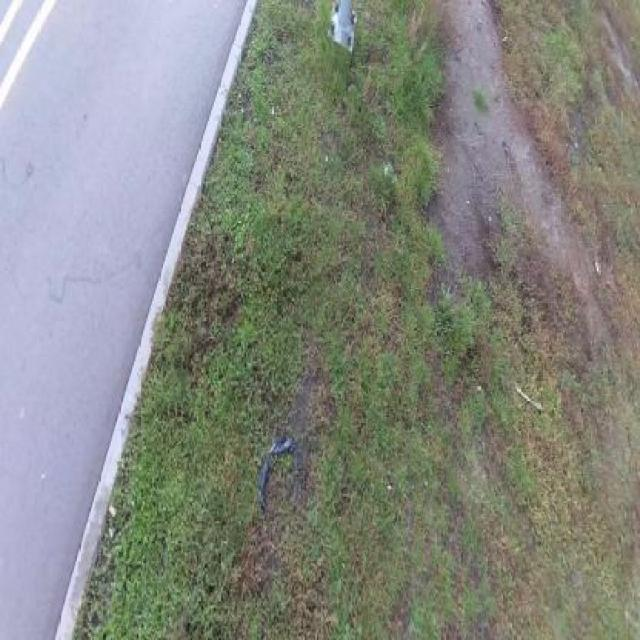Garbage: (258, 436, 296, 511)
